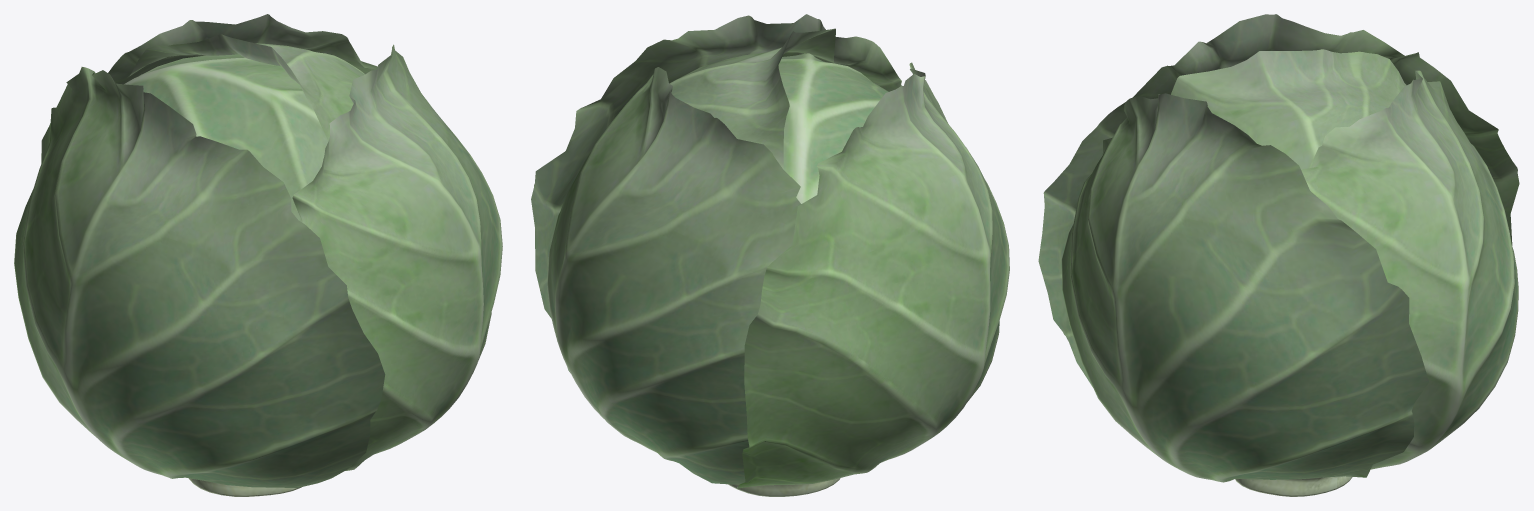
Rendered from Karam.fbx.
The picture shows the model from 3 angles, left to right: view 1: azimuth 30°, elevation 25°; view 2: azimuth 150°, elevation 25°; view 3: azimuth 270°, elevation 25°; orthographic projection. The views are drawn at different scales.
Visible parts, largest first — view 1: Open3DModel (1) (5); view 2: Open3DModel (1) (5); view 3: Open3DModel (1) (5).
Part boxes in pixels (x1=…): Open3DModel (1) (5): x1=14, y1=14, x2=502, y2=496; Open3DModel (1) (5): x1=531, y1=14, x2=1009, y2=496; Open3DModel (1) (5): x1=1038, y1=14, x2=1519, y2=496.
Size of the model in its own units: 640 by 638 by 658.
1 material, 1 textured.
